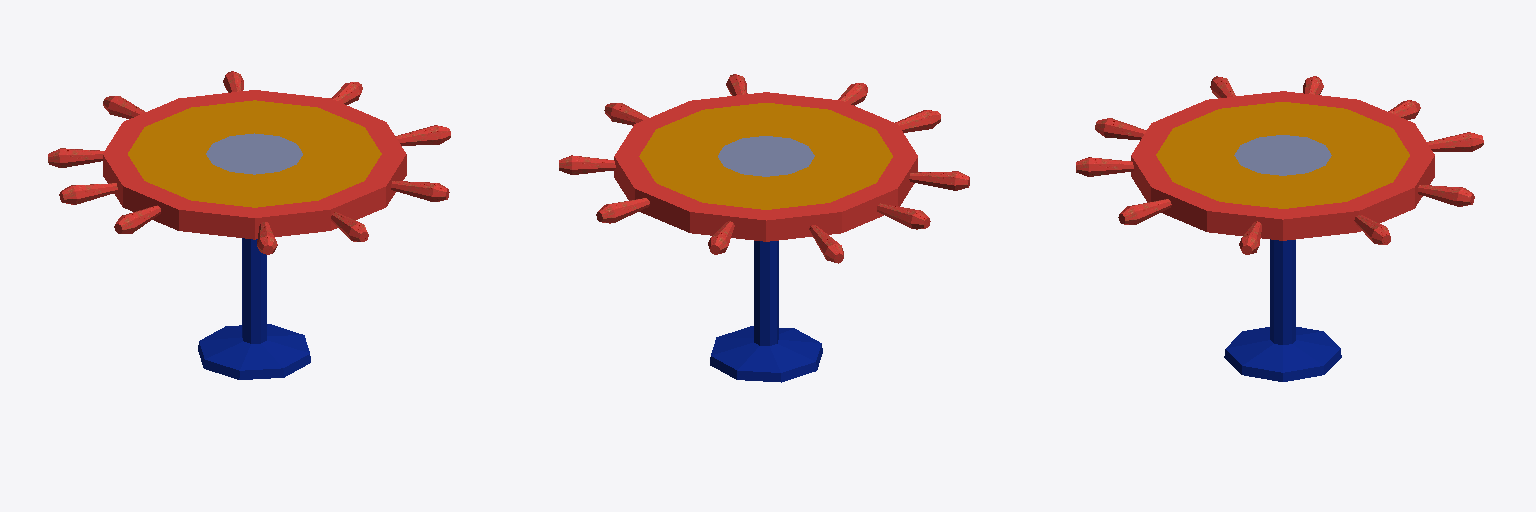
3 renders of one model, left to right at view 1: azimuth 30°, elevation 25°; view 2: azimuth 150°, elevation 25°; view 3: azimuth 270°, elevation 25°, orthographic.
Visible parts, largest first — view 1: Circle.002, Cylinder.046_Cylinder.019, Cylinder.044_Cylinder.018, Cylinder.041_Cylinder.018, Cylinder.040_Cylinder.018, Cylinder.039_Cylinder.018, Cylinder.043_Cylinder.018, Cylinder.045_Cylinder.018, Cylinder.036_Cylinder.018; view 2: Circle.002, Cylinder.046_Cylinder.019, Cylinder.043_Cylinder.018, Cylinder.038_Cylinder.018, Cylinder.044_Cylinder.018, Cylinder.037_Cylinder.018, Cylinder.042_Cylinder.018, Cylinder.040_Cylinder.018, Cylinder.039_Cylinder.018, Cylinder.036_Cylinder.018; view 3: Circle.002, Cylinder.046_Cylinder.019, Cylinder.045_Cylinder.018, Cylinder.037_Cylinder.018, Cylinder.036_Cylinder.018, Cylinder.041_Cylinder.018, Cylinder.042_Cylinder.018, Cylinder.038_Cylinder.018.
Boxes of the visible parts, x1=… form: Circle.002: x1=103, y1=90, x2=406, y2=239; Cylinder.046_Cylinder.019: x1=198, y1=238, x2=310, y2=379; Cylinder.044_Cylinder.018: x1=59, y1=183, x2=117, y2=204; Cylinder.041_Cylinder.018: x1=391, y1=181, x2=449, y2=201; Cylinder.040_Cylinder.018: x1=48, y1=148, x2=103, y2=167; Cylinder.039_Cylinder.018: x1=395, y1=125, x2=450, y2=145; Cylinder.043_Cylinder.018: x1=114, y1=205, x2=160, y2=233; Cylinder.045_Cylinder.018: x1=331, y1=212, x2=368, y2=241; Cylinder.036_Cylinder.018: x1=103, y1=96, x2=144, y2=118; Circle.002: x1=614, y1=92, x2=917, y2=241; Cylinder.046_Cylinder.019: x1=710, y1=241, x2=822, y2=382; Cylinder.043_Cylinder.018: x1=909, y1=171, x2=969, y2=190; Cylinder.038_Cylinder.018: x1=559, y1=155, x2=615, y2=174; Cylinder.044_Cylinder.018: x1=877, y1=203, x2=930, y2=229; Cylinder.037_Cylinder.018: x1=596, y1=198, x2=649, y2=223; Cylinder.042_Cylinder.018: x1=895, y1=110, x2=940, y2=132; Cylinder.040_Cylinder.018: x1=809, y1=225, x2=843, y2=263; Cylinder.039_Cylinder.018: x1=604, y1=103, x2=648, y2=125; Cylinder.036_Cylinder.018: x1=708, y1=221, x2=734, y2=254; Circle.002: x1=1131, y1=91, x2=1434, y2=240; Cylinder.046_Cylinder.019: x1=1224, y1=239, x2=1341, y2=381; Cylinder.045_Cylinder.018: x1=1076, y1=157, x2=1133, y2=176; Cylinder.037_Cylinder.018: x1=1418, y1=185, x2=1474, y2=206; Cylinder.036_Cylinder.018: x1=1427, y1=132, x2=1483, y2=151; Cylinder.041_Cylinder.018: x1=1118, y1=199, x2=1171, y2=224; Cylinder.042_Cylinder.018: x1=1095, y1=118, x2=1146, y2=140; Cylinder.038_Cylinder.018: x1=1354, y1=215, x2=1390, y2=244.
Size of the model in its own units: 3 by 1.64 by 2.98.
4 materials, 2 textured.